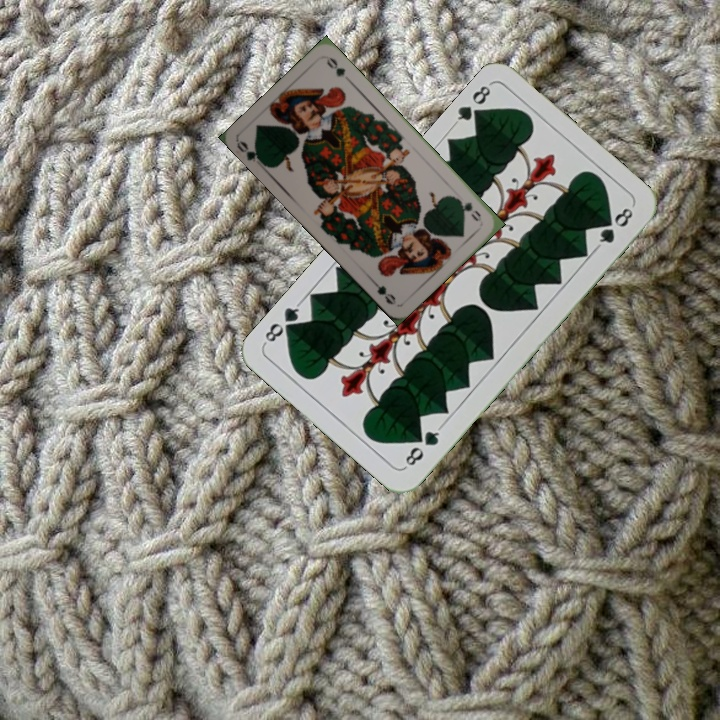G8: (400, 422, 444, 471), (449, 81, 494, 128)
GO: (232, 137, 269, 169), (451, 194, 484, 224)
